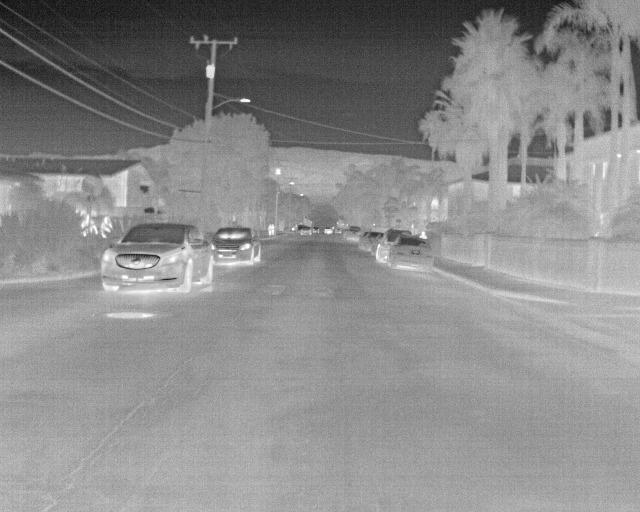car: (99, 221, 215, 295), (204, 225, 258, 265), (383, 233, 433, 268), (372, 229, 416, 262), (341, 221, 364, 242), (300, 224, 315, 238)
